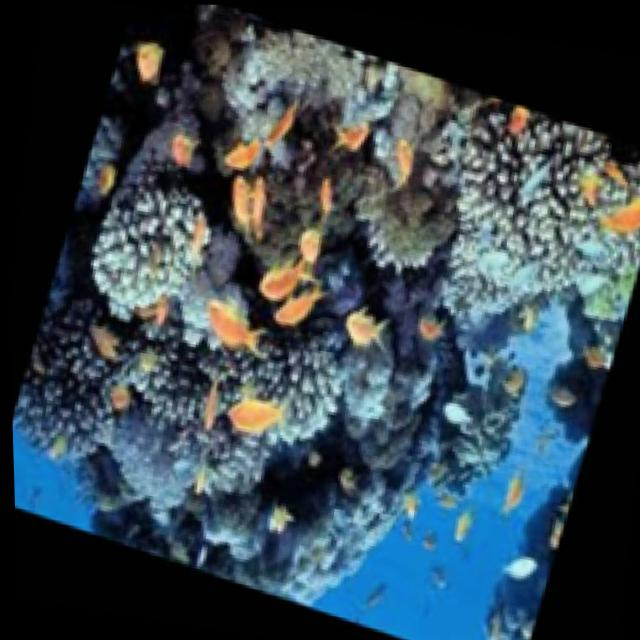Dead Coral: (11, 303, 257, 446)
